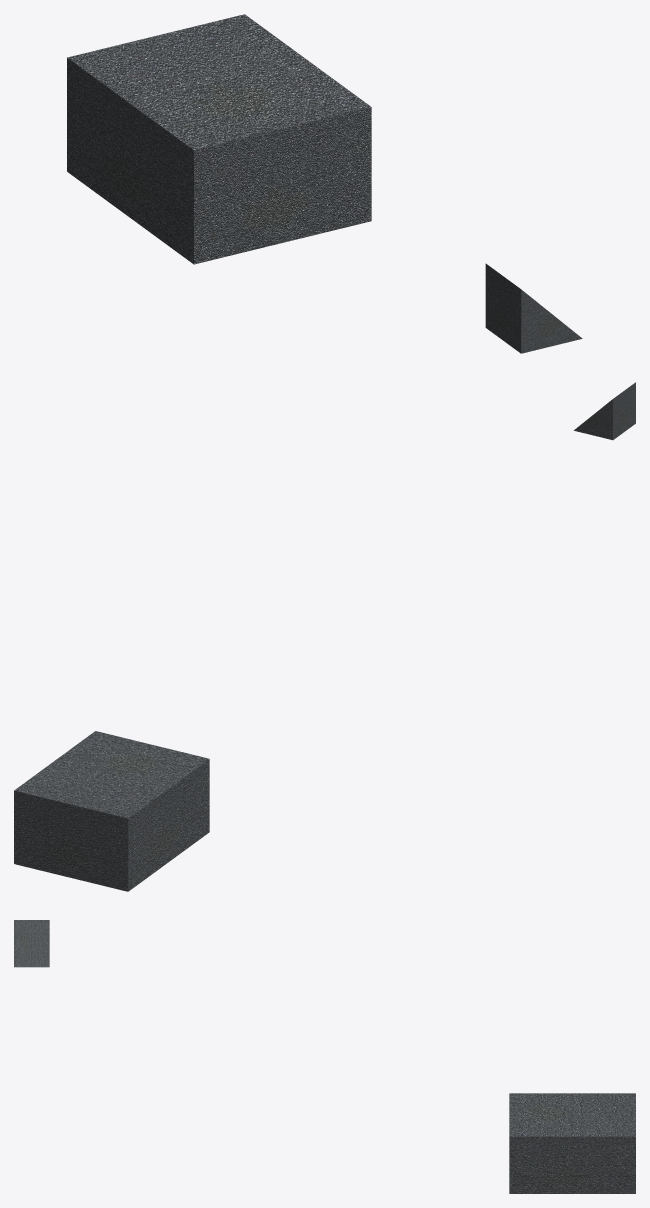
The model's file is RampaCubo.DAE.
3 views of the same model, one above another, from view 1: azimuth 30°, elevation 25°; view 2: azimuth 150°, elevation 25°; view 3: azimuth 270°, elevation 25° (orthographic). The views are drawn at different scales.
Parts seen in each view (by area): view 1: Box_Cubo, Mesh_Rampa01; view 2: Box_Cubo, Mesh_Rampa01; view 3: Box_Cubo, Mesh_Rampa01.
Part boxes in pixels (x1,y1,x2,y2): Box_Cubo: (67,14,371,264); Mesh_Rampa01: (485,263,582,353); Box_Cubo: (14,731,209,891); Mesh_Rampa01: (574,382,635,440); Box_Cubo: (509,1093,635,1193); Mesh_Rampa01: (14,920,49,967).
Size of the model in its own units: 11.21 by 34.95 by 11.74.
1 material, 1 textured.
